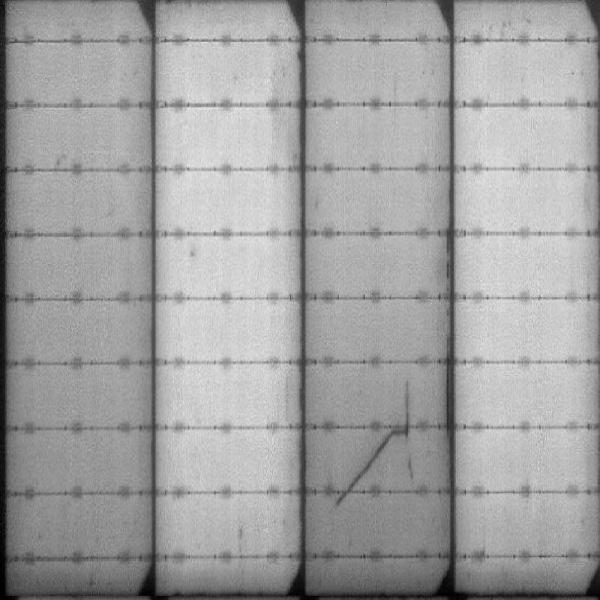scratch: (332, 433, 395, 510), (442, 232, 451, 438), (402, 378, 416, 477)
